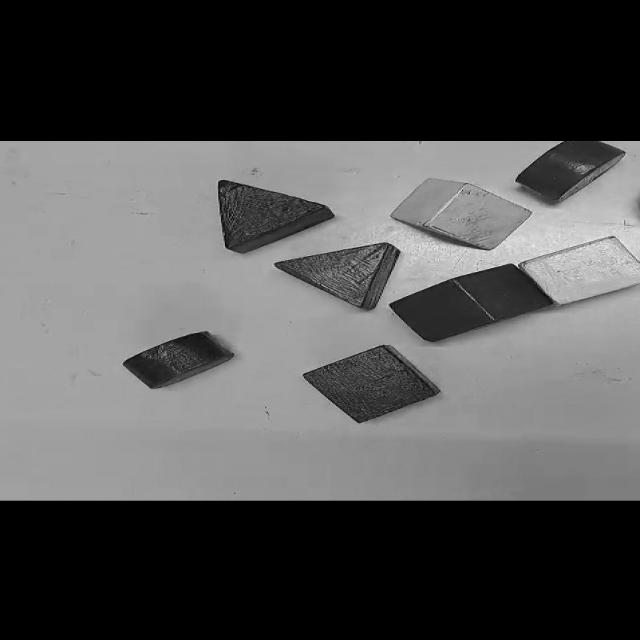bcircle: (275, 243, 400, 310), (124, 332, 234, 389), (89, 369, 101, 377), (266, 407, 270, 420)
bcube: (303, 345, 440, 423)
btriangle: (219, 180, 334, 253)
rcircle: (516, 141, 625, 203)
rcube: (389, 265, 552, 341)
ycube: (520, 237, 639, 304)
ytriangle: (391, 178, 532, 250)
